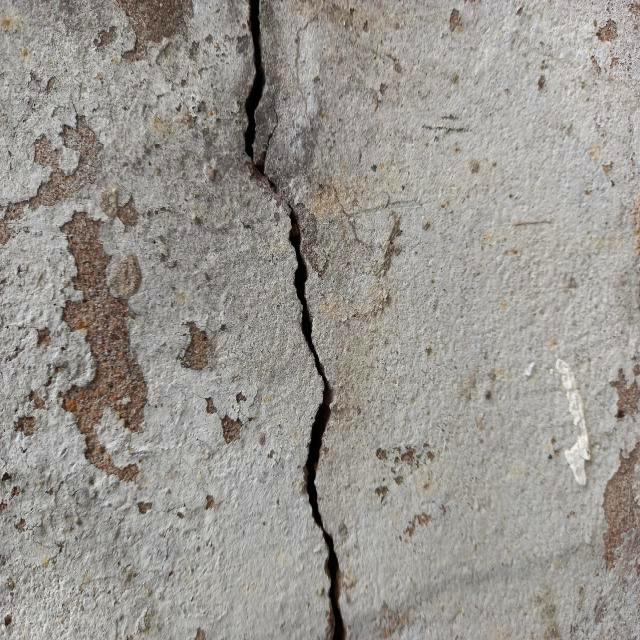SurfaceCrack: (204, 0, 410, 640)
